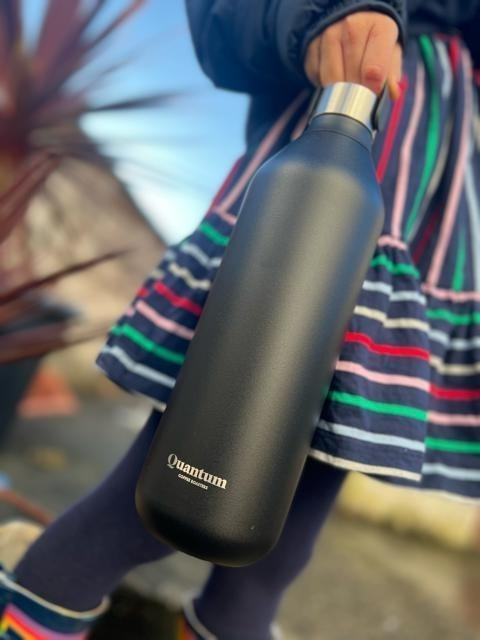gym bottle: (136, 79, 386, 567)
